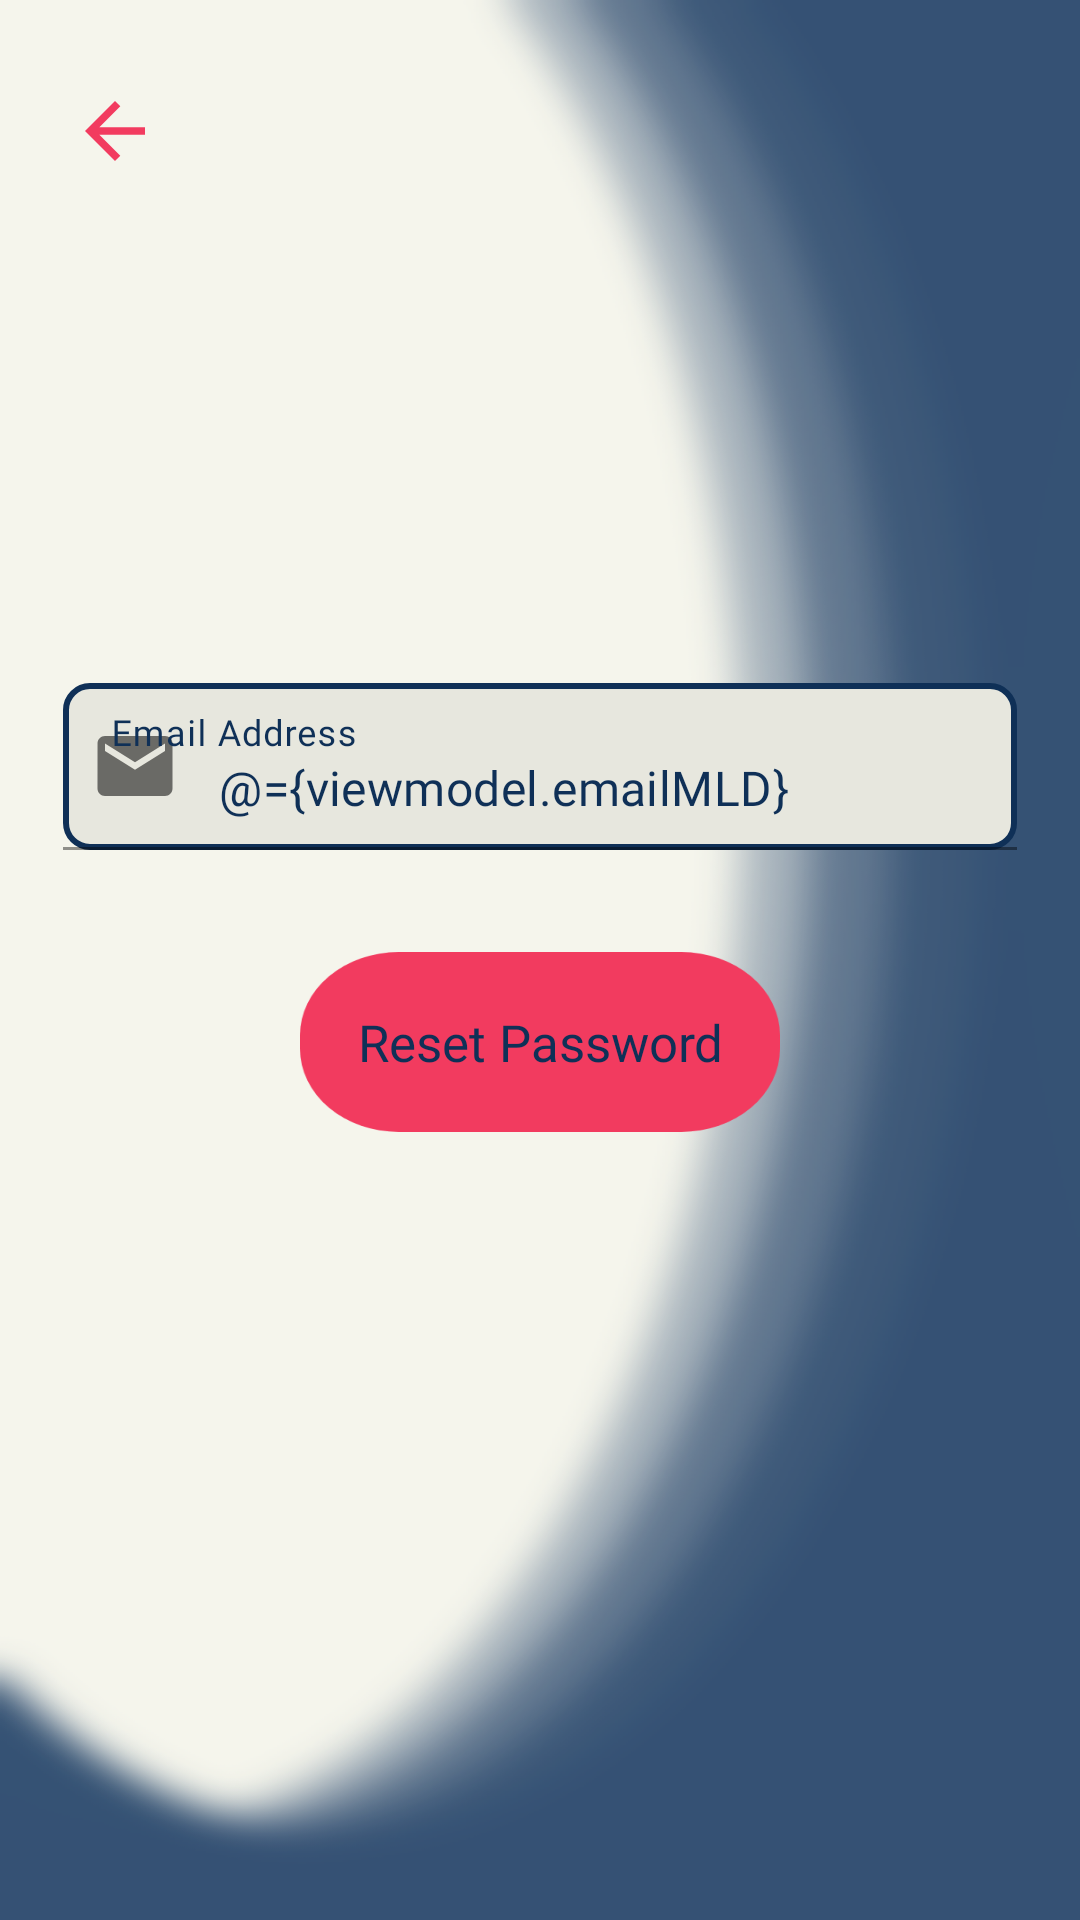

Where to tap for icons on this 1080px x 1920px app screen, as point (x, y):
Back Button: point (115, 131)
